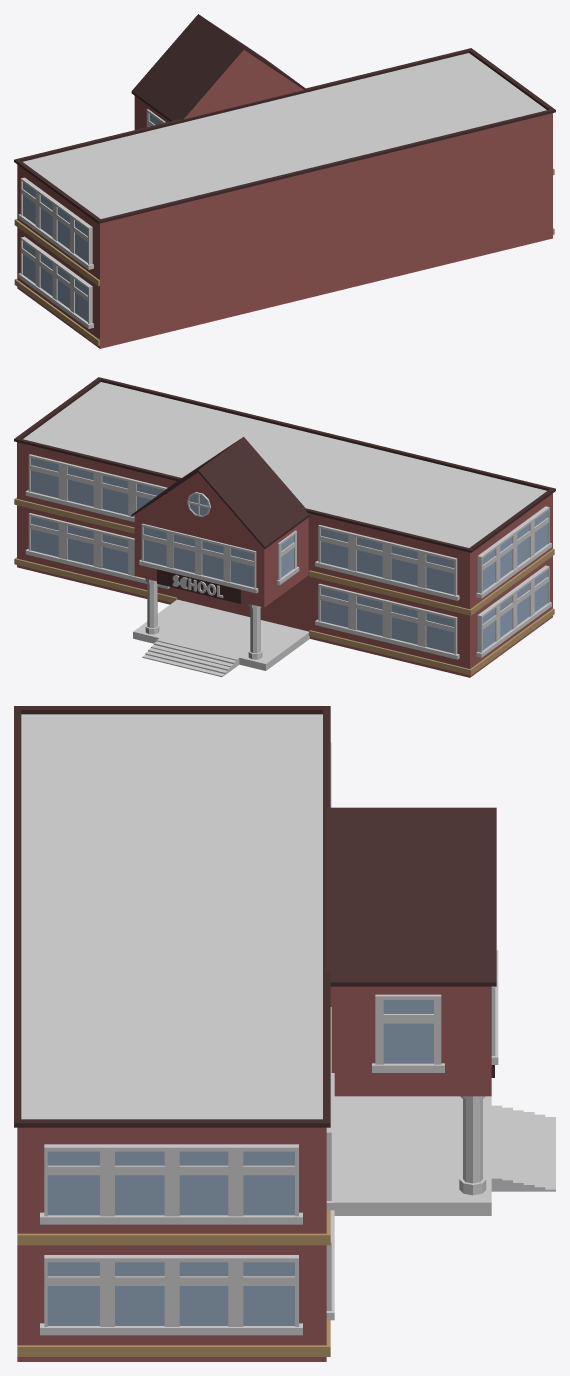
The model's file is school.fbx.
3 views of the same model, one above another, from view 1: azimuth 30°, elevation 25°; view 2: azimuth 150°, elevation 25°; view 3: azimuth 270°, elevation 25° (orthographic). The views are drawn at different scales.
Visible parts, largest first — view 1: polySurface79, pCube28, pCube29, polySurface90, polySurface177, group12_pCube11; view 2: pCube28, polySurface79, polySurface90, polySurface177, pCube29, group12_pCube11, typeMesh1; view 3: pCube28, pCube29, polySurface79, polySurface90, polySurface177, group12_pCube11.
Boxes of the visible parts, x1,y1,x2,y2 form: polySurface79: (17,50,552,348); pCube28: (23,53,546,218); pCube29: (14,14,555,223); polySurface90: (18,109,165,328); polySurface177: (23,114,161,321); group12_pCube11: (14,168,554,345); pCube28: (23,382,546,676); polySurface79: (17,442,552,677); polySurface90: (25,454,551,659); polySurface177: (31,458,547,653); pCube29: (14,377,555,603); group12_pCube11: (14,497,554,675); typeMesh1: (172,575,223,598); pCube28: (21,714,555,1215); pCube29: (14,706,496,1127); polySurface79: (17,986,491,1361); polySurface90: (40,742,498,1335); polySurface177: (47,1000,433,1325); group12_pCube11: (17,1210,330,1356).
Size of the model in its own units: 132 by 71.56 by 50.62.
